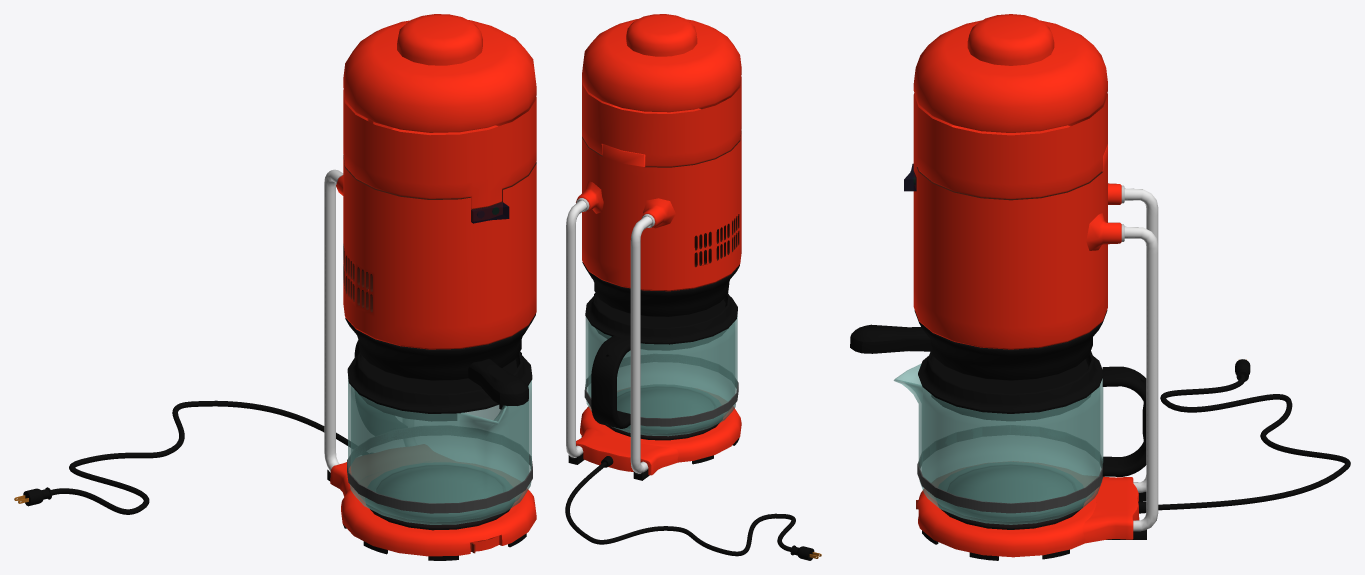
Rendered from Coffee maker.fbx.
The picture shows the model from 3 angles, left to right: view 1: azimuth 30°, elevation 25°; view 2: azimuth 150°, elevation 25°; view 3: azimuth 270°, elevation 25°; orthographic projection. The views are drawn at different scales.
Parts seen in each view (by area): view 1: Object009, Cylinder001, Object011, Object010, Cylinder008, Cylinder013, Object008, Cylinder042, Cylinder046, Object001, Line002, Box030 (+1 smaller); view 2: Object009, Object011, Cylinder001, Object010, Cylinder046, Cylinder013, Object008, Box006, Cylinder008, Cylinder042, Box004, Line002 (+4 smaller); view 3: Object009, Cylinder001, Object011, Object010, Cylinder013, Cylinder008, Cylinder046, Object008, Cylinder042, Line002, Object001, Box004 (+4 smaller).
Part boxes in pixels (x1,y1,x2,y2): Object009: (343,155,536,349); Cylinder001: (348,376,531,524); Object011: (343,20,536,132); Object010: (343,90,536,208); Cylinder008: (341,487,536,556); Cylinder013: (347,351,532,421); Object008: (345,314,535,380); Cylinder042: (397,14,482,65); Cylinder046: (324,169,343,471); Object001: (347,426,532,513); Line002: (51,400,350,514); Box030: (468,359,528,405); Object009: (582,108,741,291); Object011: (582,19,741,112); Cylinder001: (585,314,737,436); Object010: (582,77,741,166); Cylinder046: (566,200,652,473); Cylinder013: (585,293,737,350); Object008: (582,262,739,316); Box006: (591,336,630,428); Cylinder008: (580,406,741,462); Cylinder042: (626,14,697,56); Box004: (576,427,678,475); Line002: (565,462,795,556); Object009: (913,144,1107,349); Cylinder001: (893,364,1103,524); Object011: (913,20,1107,132); Object010: (913,93,1107,198); Cylinder013: (918,351,1102,420); Cylinder008: (917,489,1096,557); Cylinder046: (1124,188,1158,531); Object008: (914,310,1107,380); Cylinder042: (967,14,1054,65); Line002: (1158,374,1350,510); Object001: (917,426,1103,513); Box004: (1082,476,1139,543).
Size of the model in its own units: 127 by 153 by 140.
